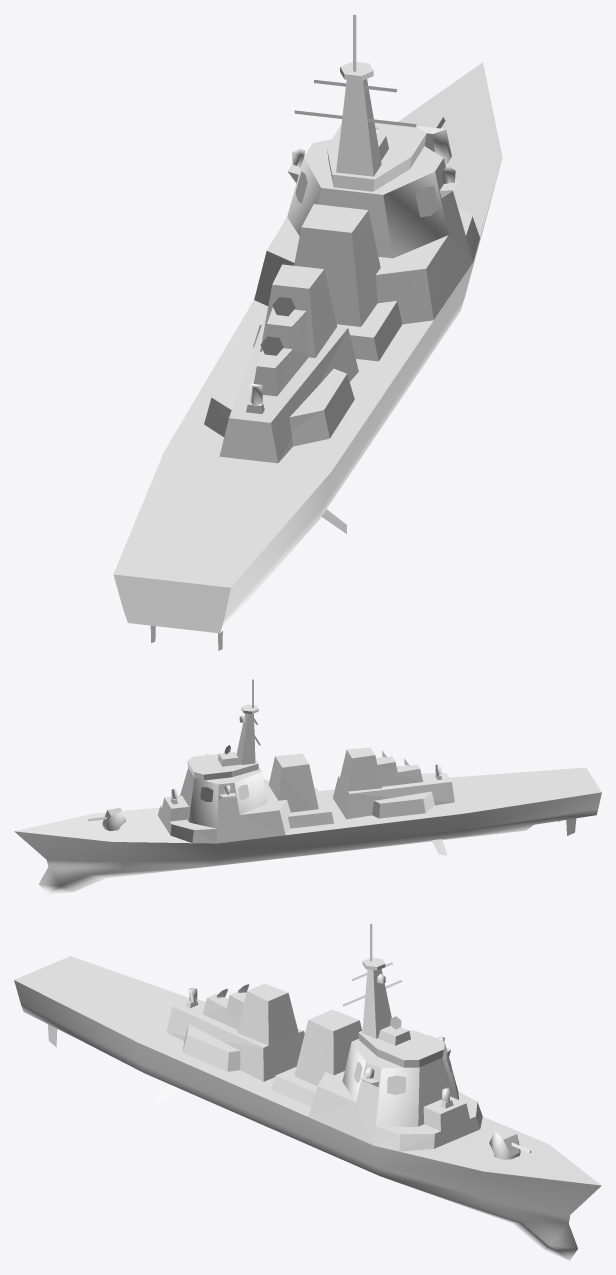
File: icon1.ico.obj
The picture shows the model from 3 angles, top to bottom: view 1: azimuth 30°, elevation 25°; view 2: azimuth 150°, elevation 25°; view 3: azimuth 270°, elevation 25°; orthographic projection. The views are drawn at different scales.
Bounding box in the file's own units: 4.23 × 2.01 × 4.23.
1 material, 1 textured.
